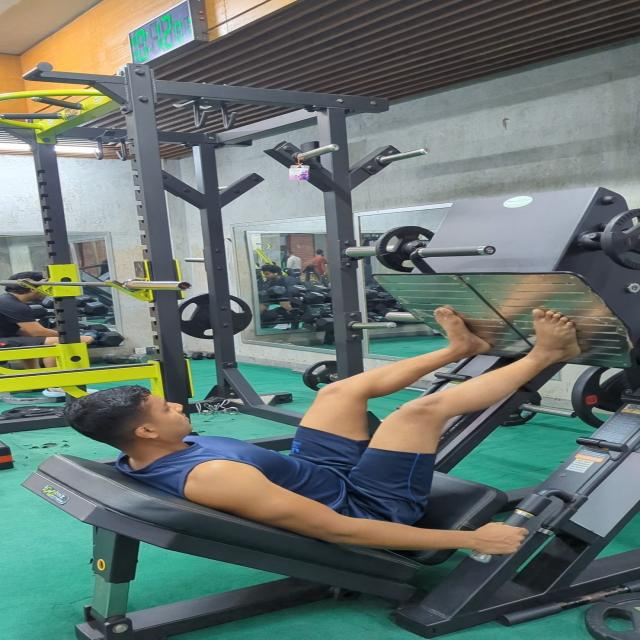Normal_LegPress: (65, 295, 587, 563)
